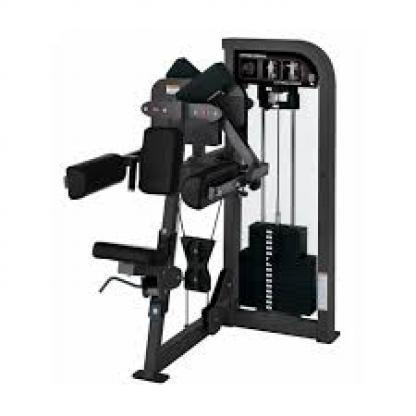lateral raises machine: (64, 37, 343, 386)
